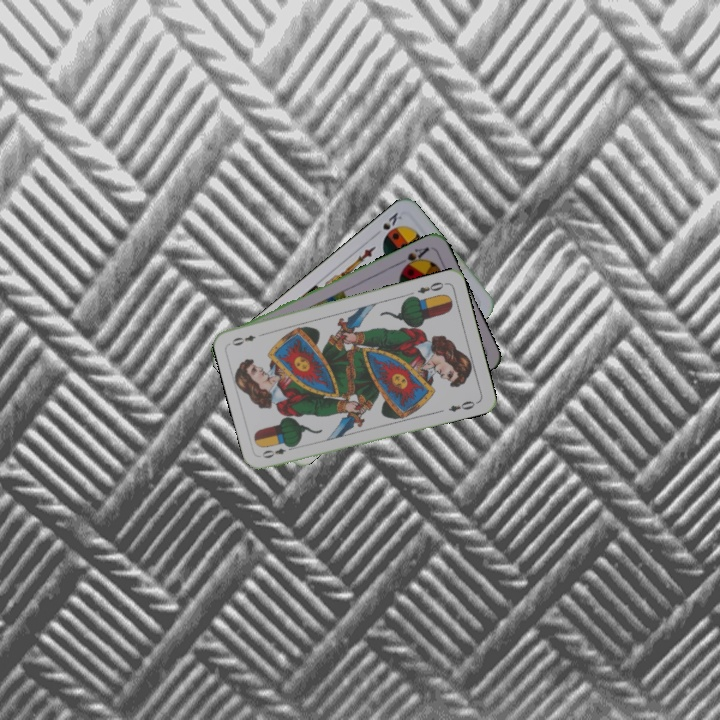EO: (258, 441, 297, 461), (414, 278, 449, 296)
SA: (395, 243, 431, 272)
SK: (379, 208, 405, 233)
